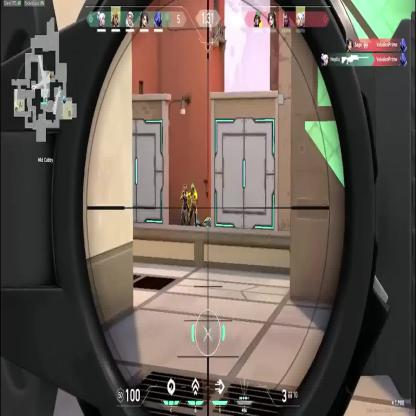enemy: (180, 183, 190, 228), (188, 184, 198, 228)
enemy_head: (183, 184, 187, 193), (191, 184, 194, 192)
